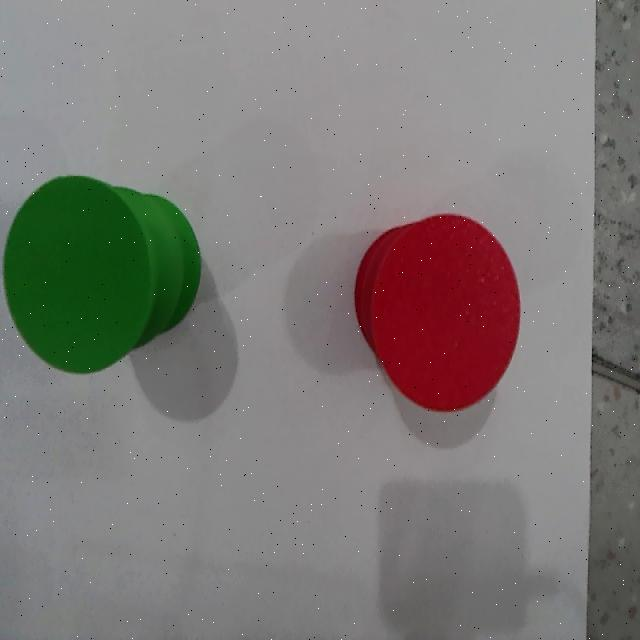g: (4, 175, 148, 375)
r: (372, 214, 521, 411)
